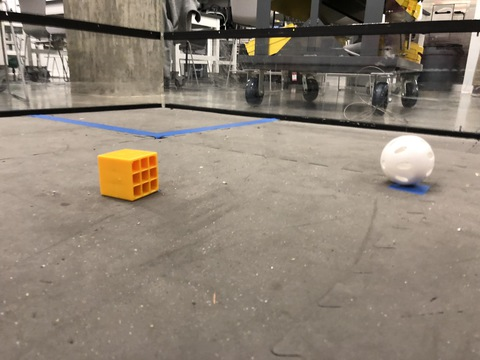ball: (370, 135, 447, 195)
block: (87, 144, 166, 203)
